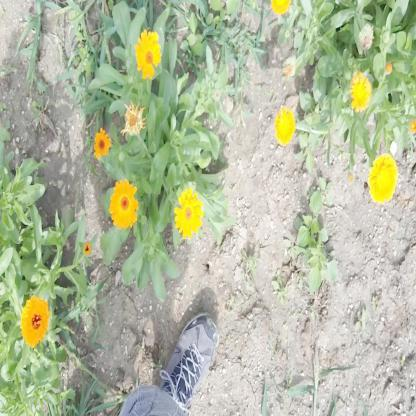marigold: (173, 186, 202, 239), (110, 179, 138, 230), (372, 153, 398, 203), (21, 297, 47, 345), (136, 29, 158, 78), (350, 72, 372, 110), (278, 108, 296, 144), (94, 130, 108, 156)
